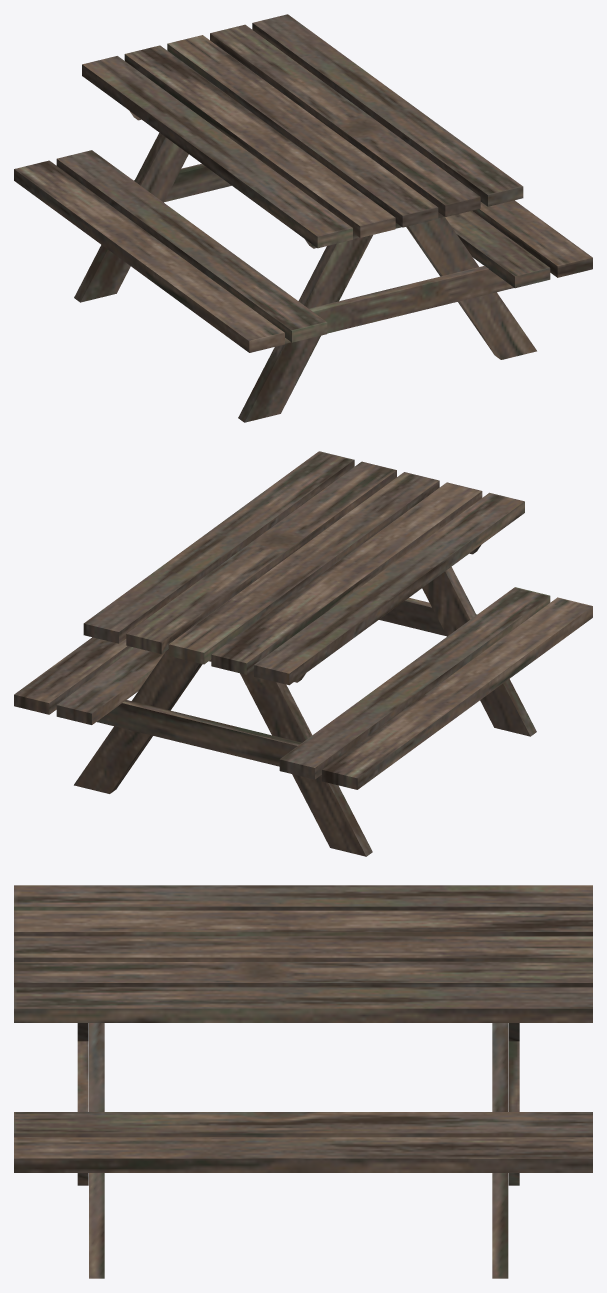
File: PicnicTable.fbx
3 views of the same model, one above another, from view 1: azimuth 30°, elevation 25°; view 2: azimuth 150°, elevation 25°; view 3: azimuth 270°, elevation 25° (orthographic). The views are drawn at different scales.
Parts seen in each view (by area): view 1: pCube20; view 2: pCube20; view 3: pCube20.
Part boxes in pixels (box(x1,y1,x2,y2)): pCube20: box(14, 14, 592, 422); pCube20: box(14, 451, 592, 856); pCube20: box(14, 885, 592, 1278).
Bounding box in the file's own units: 1.84 × 1.02 × 2.19.
1 material, 1 textured.
